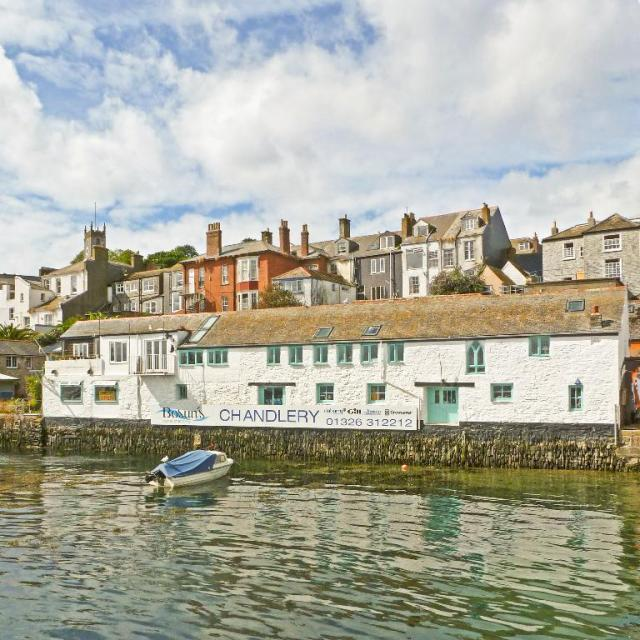Boat: (152, 451, 242, 499)
